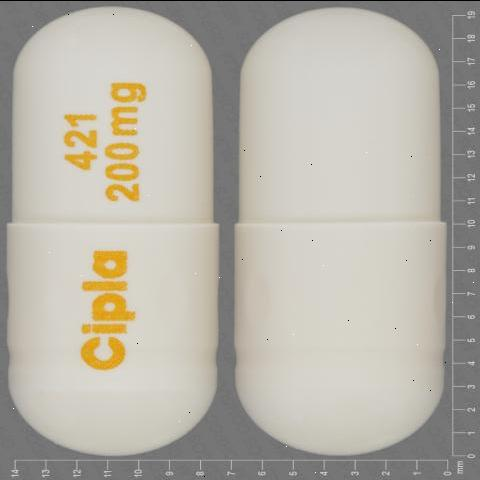Pill: (224, 1, 452, 466), (7, 5, 215, 461)
